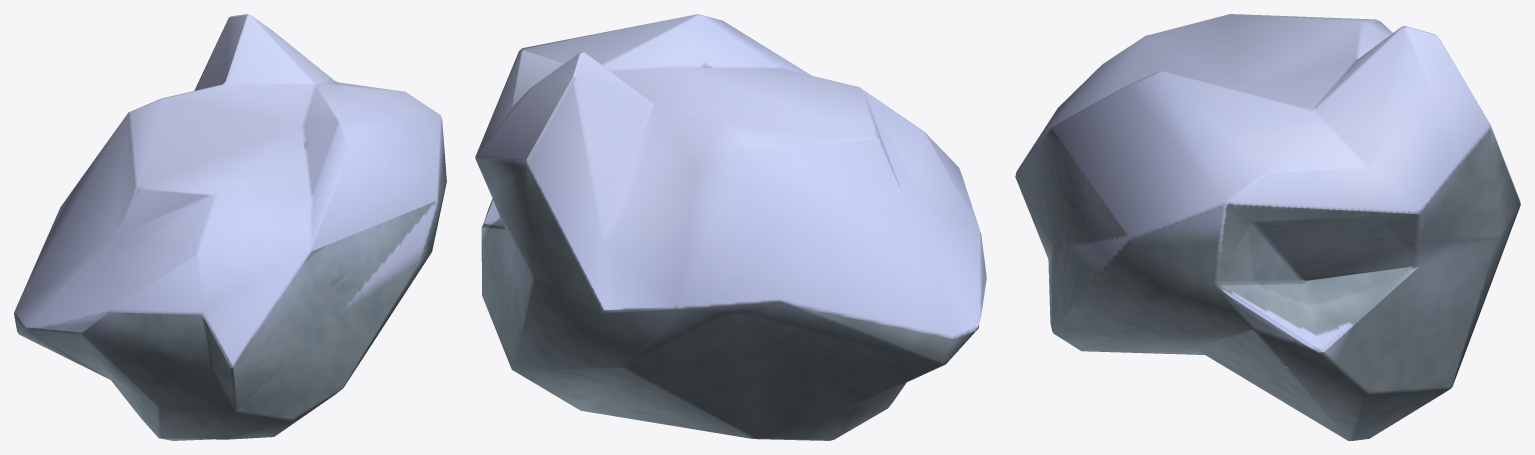
File: Rock3.fbx
3 renders of one model, left to right at view 1: azimuth 30°, elevation 25°; view 2: azimuth 150°, elevation 25°; view 3: azimuth 270°, elevation 25°, orthographic. The views are drawn at different scales.
Parts seen in each view (by area): view 1: Rock3; view 2: Rock3; view 3: Rock3.
Boxes of the visible parts, x1,y1,x2,y2 form: Rock3: (14,14,446,440); Rock3: (475,14,986,440); Rock3: (1015,14,1520,440).
Size of the model in its own units: 516 by 408 by 441.
